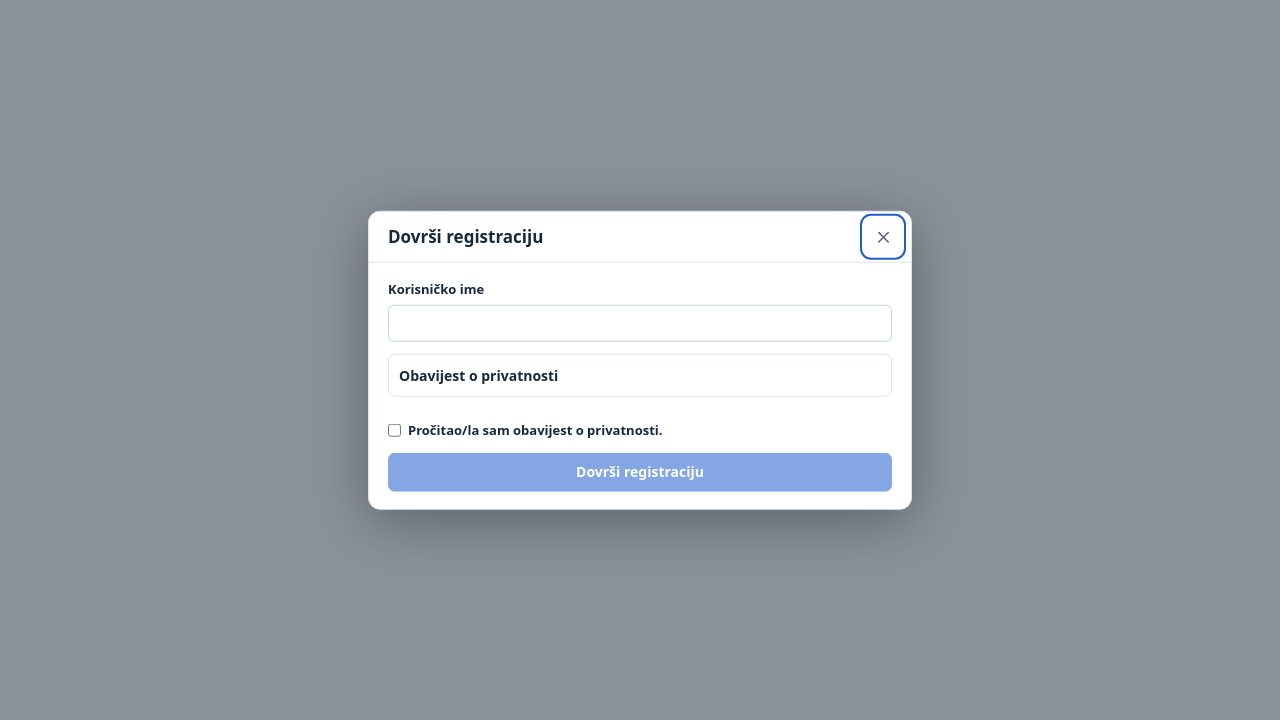
Google prijava i račun › zauzeto korisničko ime prikazuje poruku backenda i ostavlja obrazac otvorenim
In the field labelled "Korisničko ime": (640, 323) [388, 304, 892, 342], type "ana"
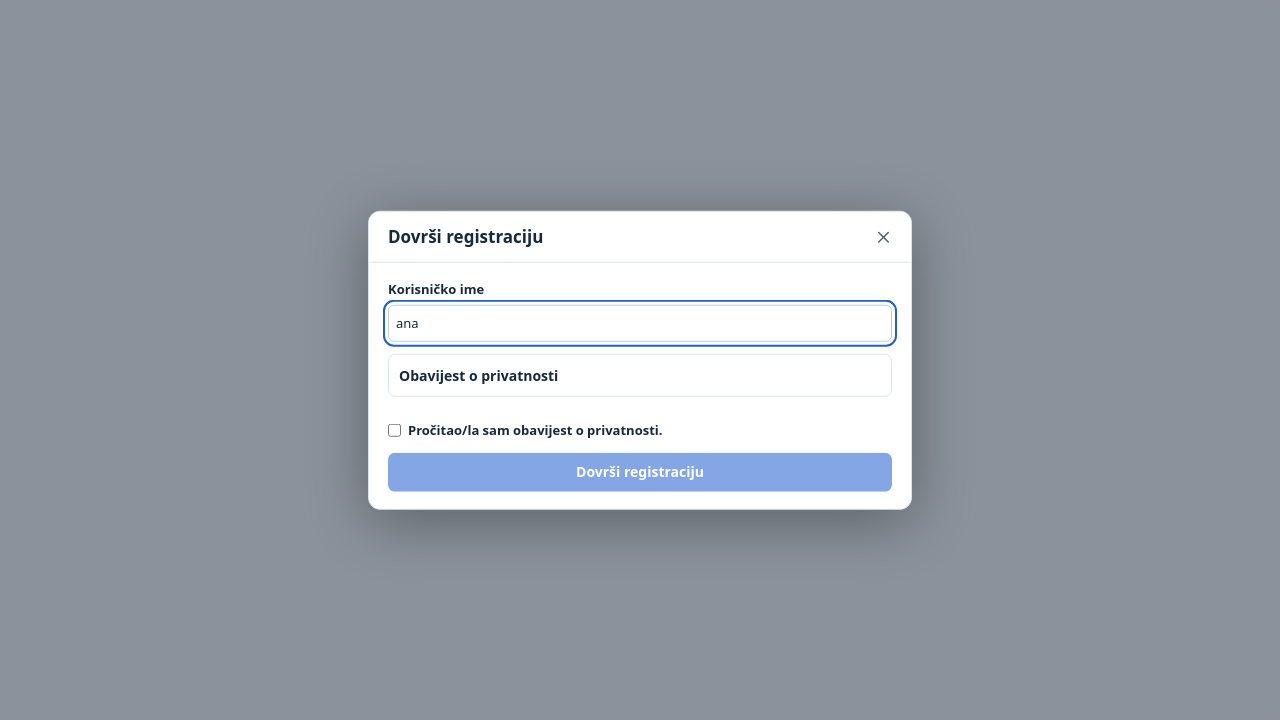
Click the checkbox: (394, 430) [388, 424, 401, 437]
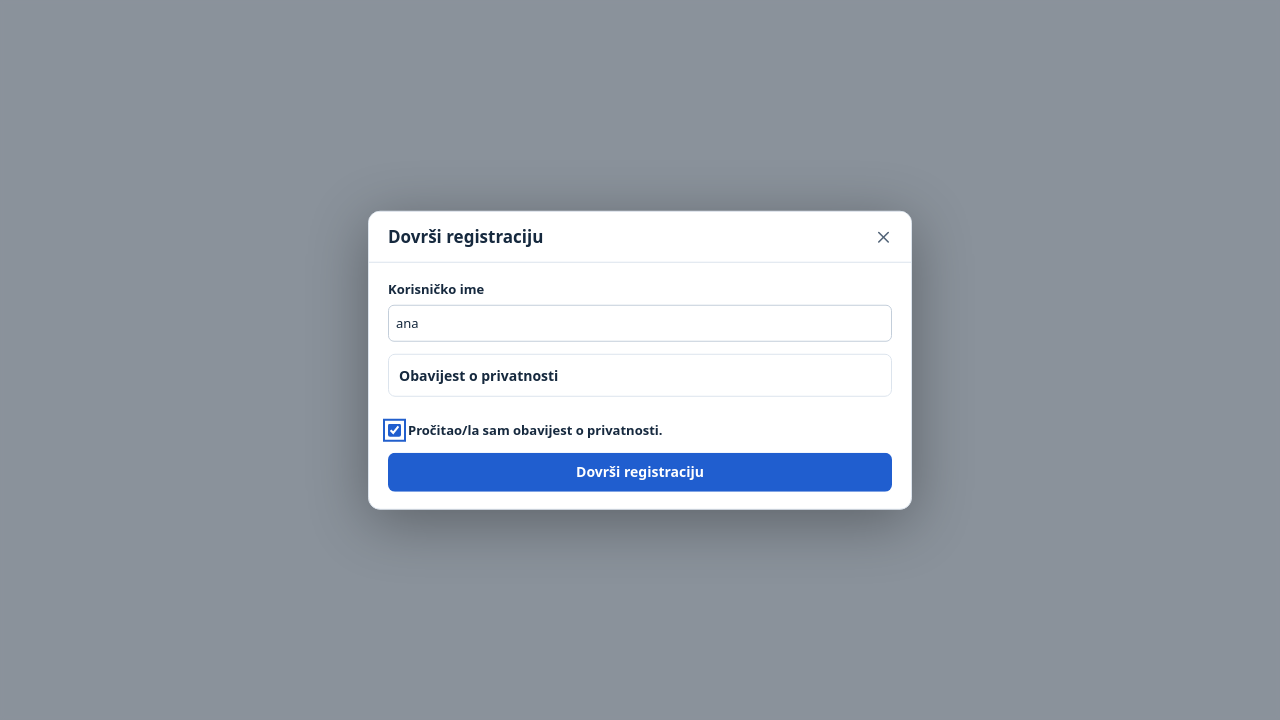
Click the button "Dovrši registraciju": (640, 472) [388, 452, 892, 491]
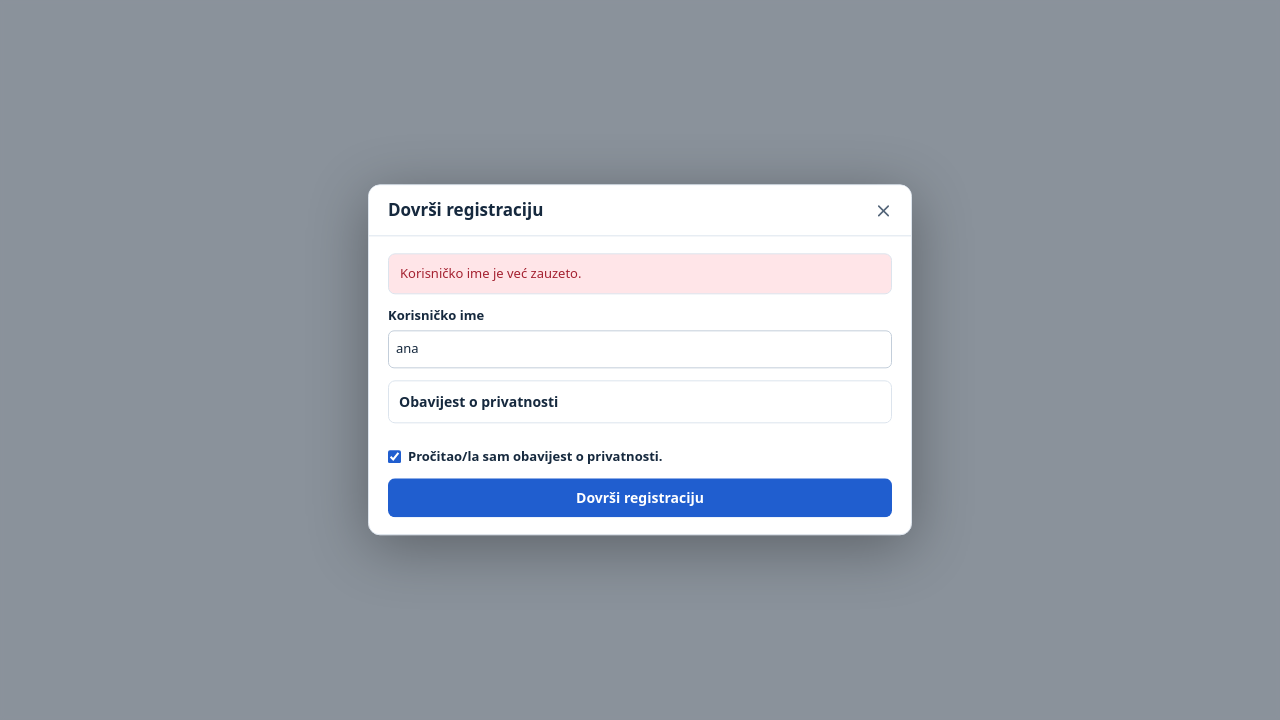
Now the button "Dovrši registraciju" is enabled, box [388, 479, 892, 518]
Now the message reads "Korisničko ime je već zauzeto.", box [400, 264, 582, 282]
